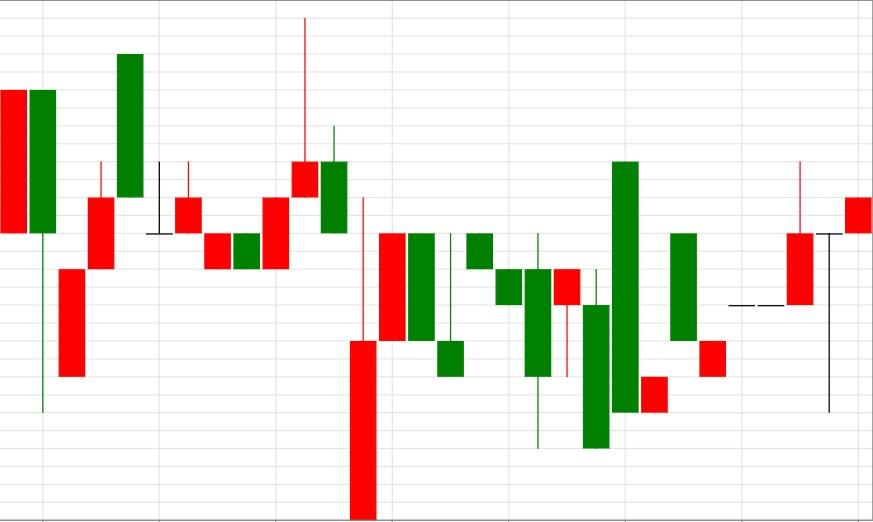bullish_engulfing_rise: (116, 53, 290, 270)
inverse_hammer_rise: (379, 233, 466, 377)
shooting_star_fall: (204, 17, 319, 270)
